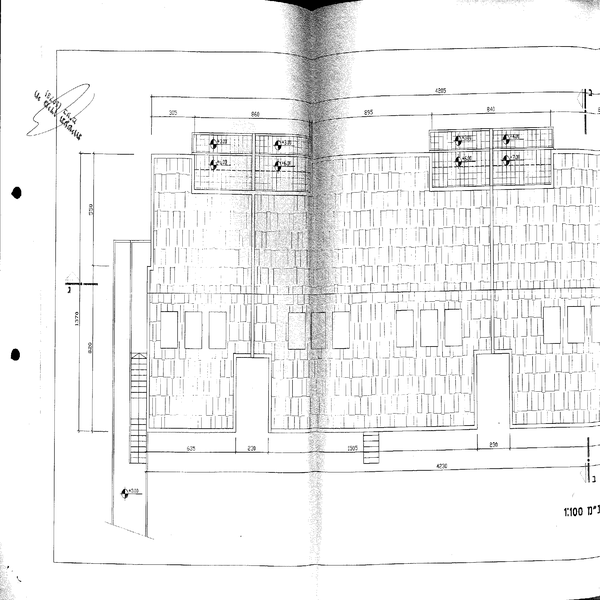room: (190, 129, 318, 201)
